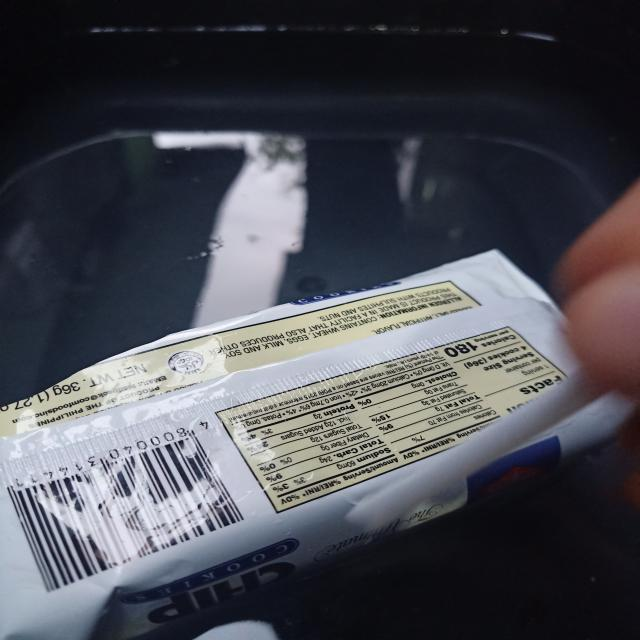Plastic Wrapper: (0, 251, 631, 640)
